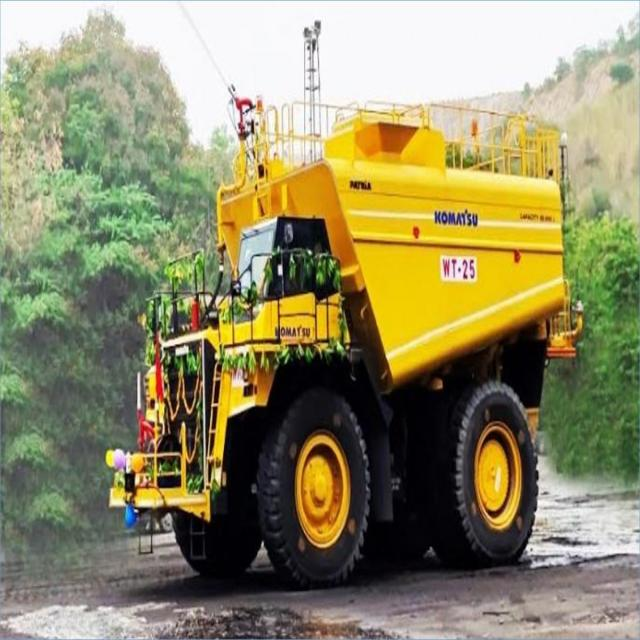dump_truck: (123, 81, 581, 575)
